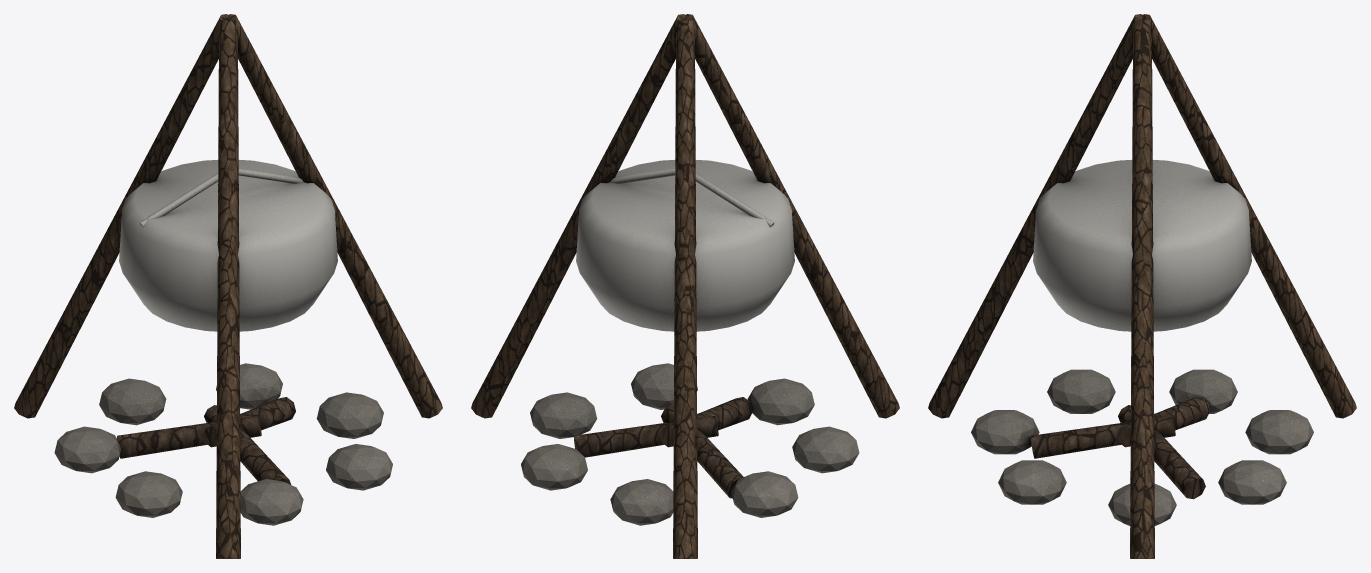
The model's file is cenario_panela.glb.
The picture shows the model from 3 angles, left to right: view 1: azimuth 30°, elevation 25°; view 2: azimuth 150°, elevation 25°; view 3: azimuth 270°, elevation 25°; orthographic projection.
Parts seen in each view (by area): view 1: cenario_panela_tronco; view 2: cenario_panela_tronco; view 3: cenario_panela_tronco.
Part boxes in pixels (x1=…): cenario_panela_tronco: x1=14, y1=14, x2=442, y2=558; cenario_panela_tronco: x1=471, y1=14, x2=899, y2=558; cenario_panela_tronco: x1=928, y1=14, x2=1356, y2=558.
Bounding box in the file's own units: 1.3 × 1.58 × 1.37.
1 material, 1 textured.
